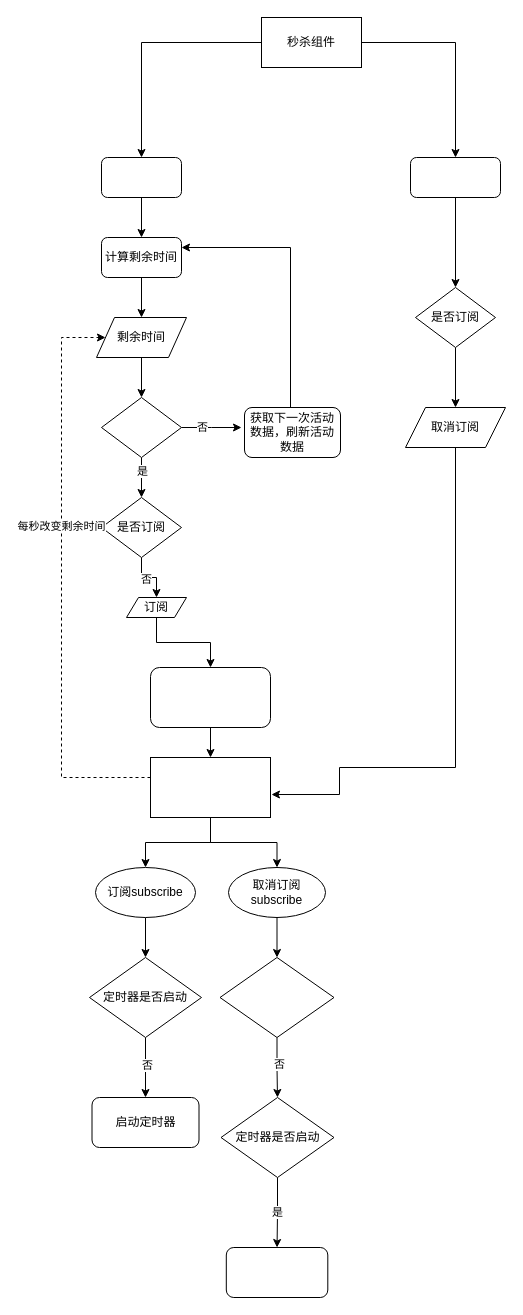
Some shapes in this 523 by 1315 pixel diagram are drawn without their labels. Each missing label, with the centre of its shape:
onHide: point 455,177
onShow: point 141,177
setTimeout抹平时差: point 210,697
全局定时器，间隔一秒，事件订阅模型: point 210,787
是否大于0: point 141,427
是否还存在 订阅方法: point 276,997
结束定时器: point 276,1272
